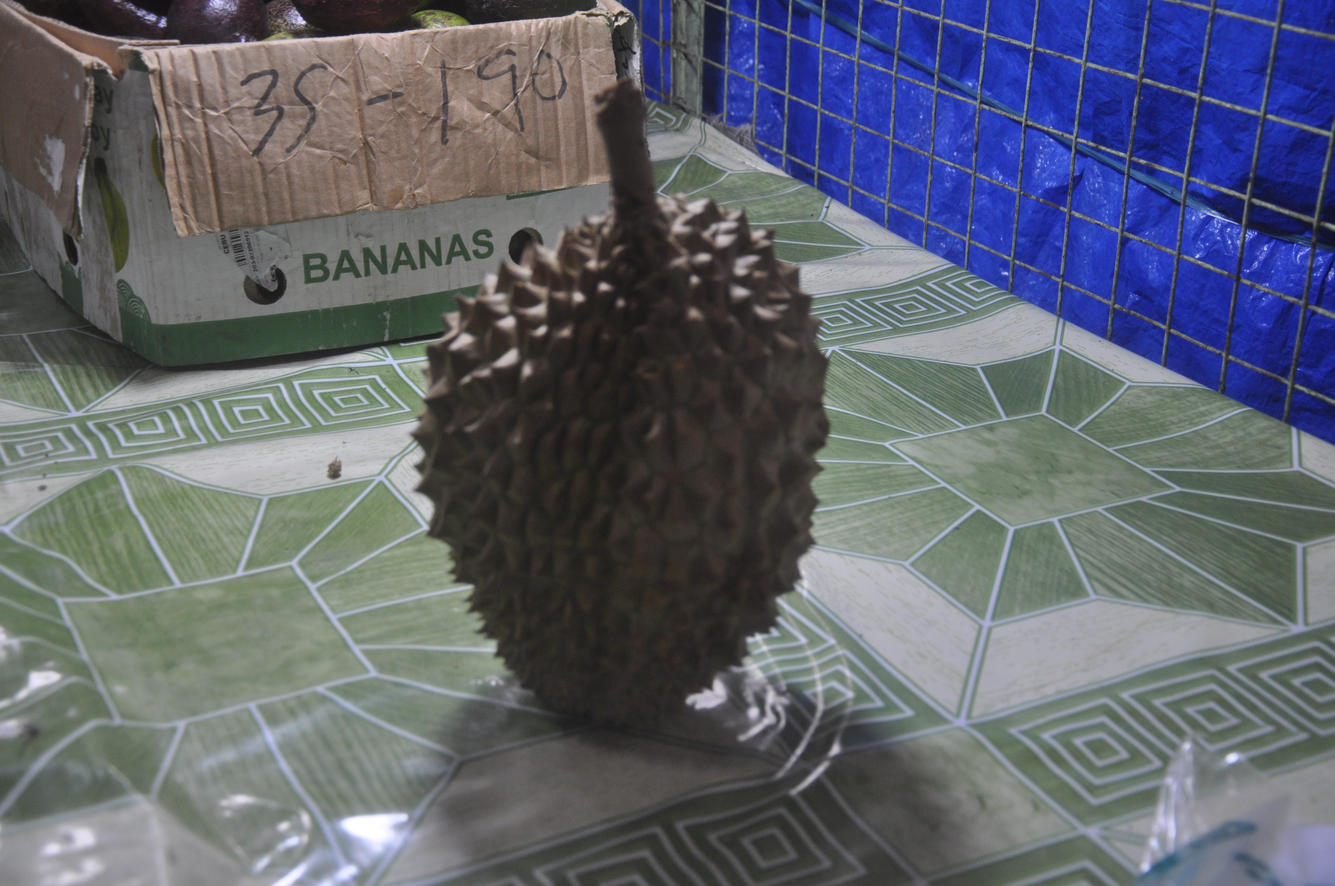mature: (414, 81, 827, 725)
